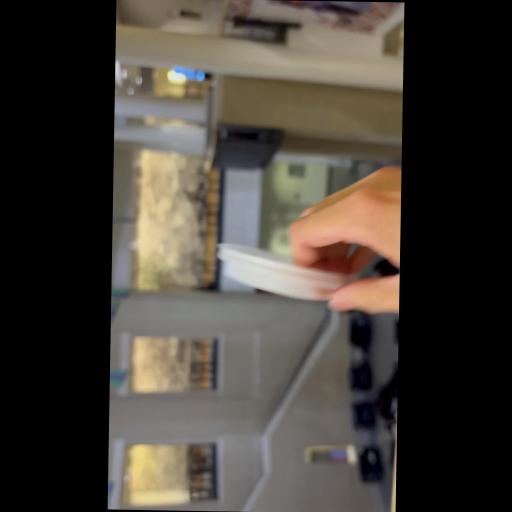lp_cup_lids: (212, 243, 356, 302)
